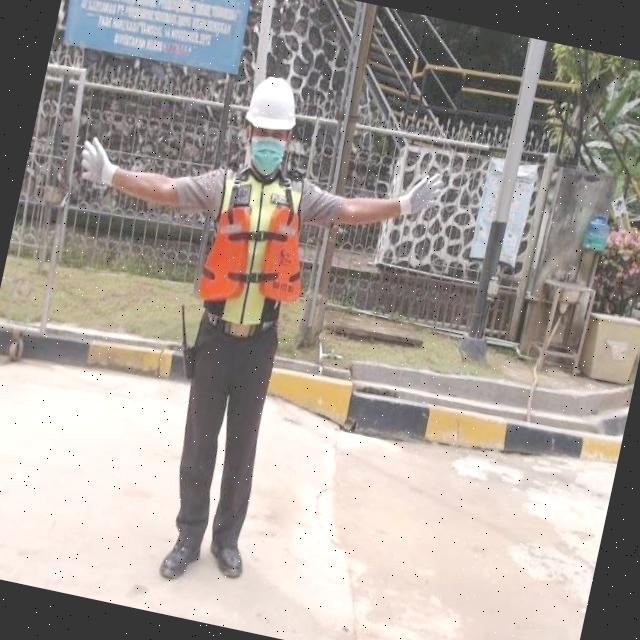vest: (181, 158, 331, 336)
